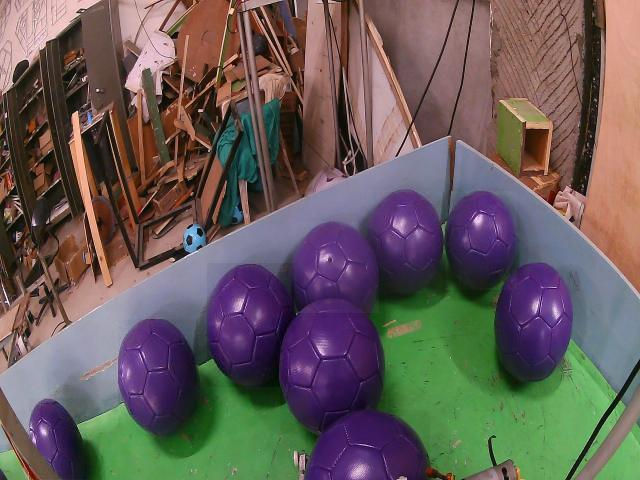jambhalya: (280, 299, 385, 434), (207, 263, 294, 387), (118, 320, 198, 436), (495, 263, 572, 382), (305, 410, 430, 480), (367, 190, 444, 293), (293, 222, 379, 313), (446, 191, 517, 290), (30, 398, 87, 480)
